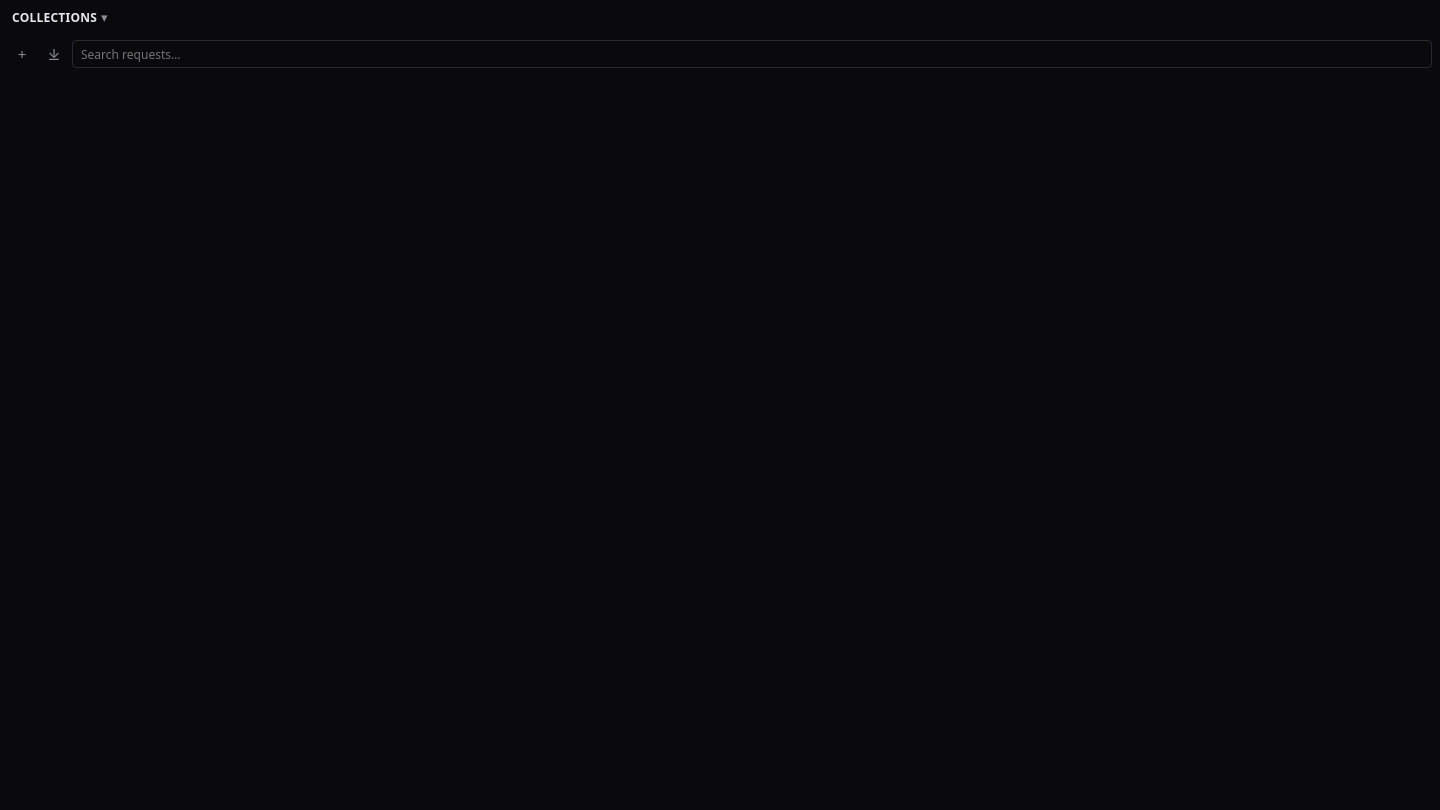
Test: HistoryView › keeps the clear dialog open and shows why clearing failed
The width and height of the screenshot is (1440, 810).
Click the button with aria-label "Sidebar view: ": {"x": 60, "y": 18} [8,4,112,32]
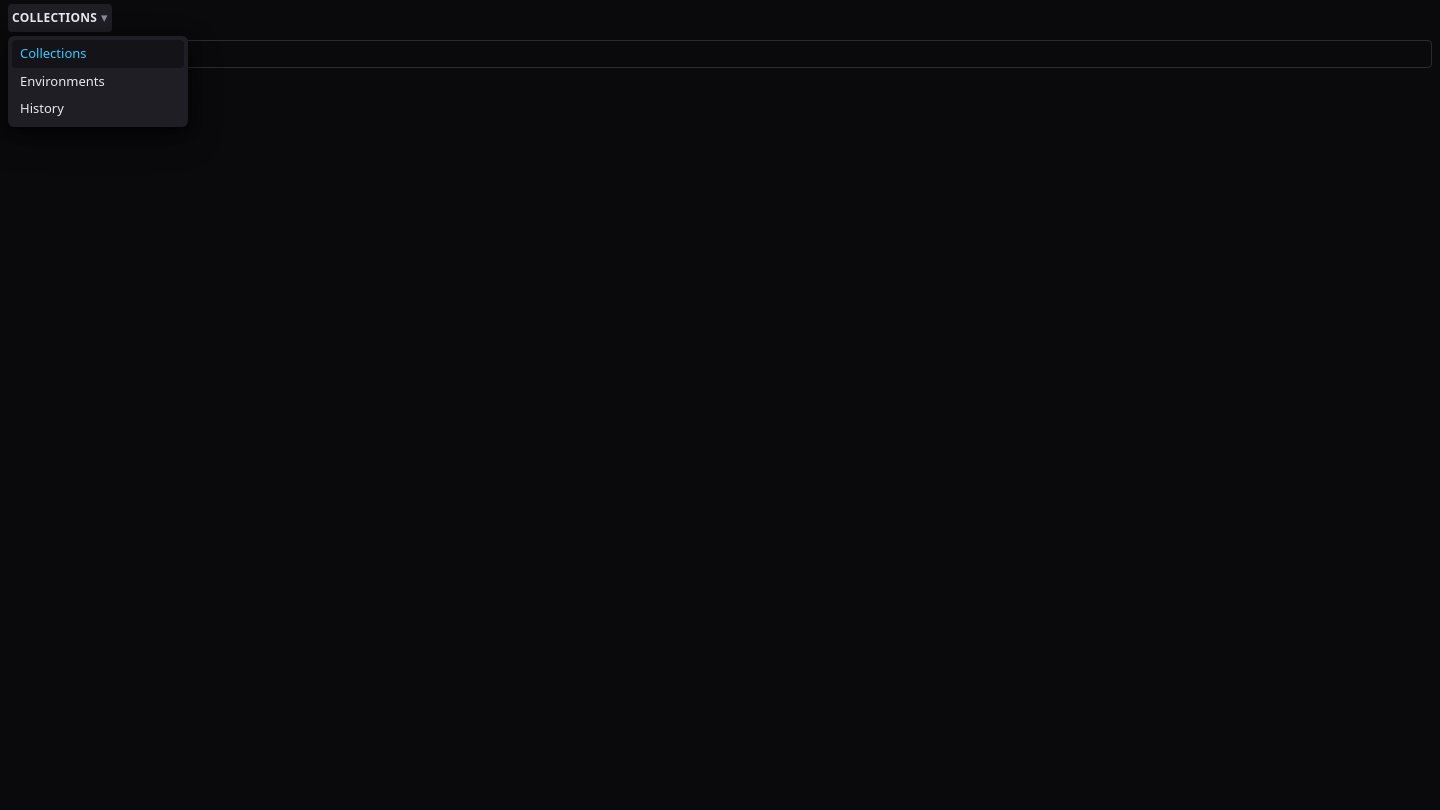
Click the menu item "History": {"x": 98, "y": 109} [12,95,184,122]
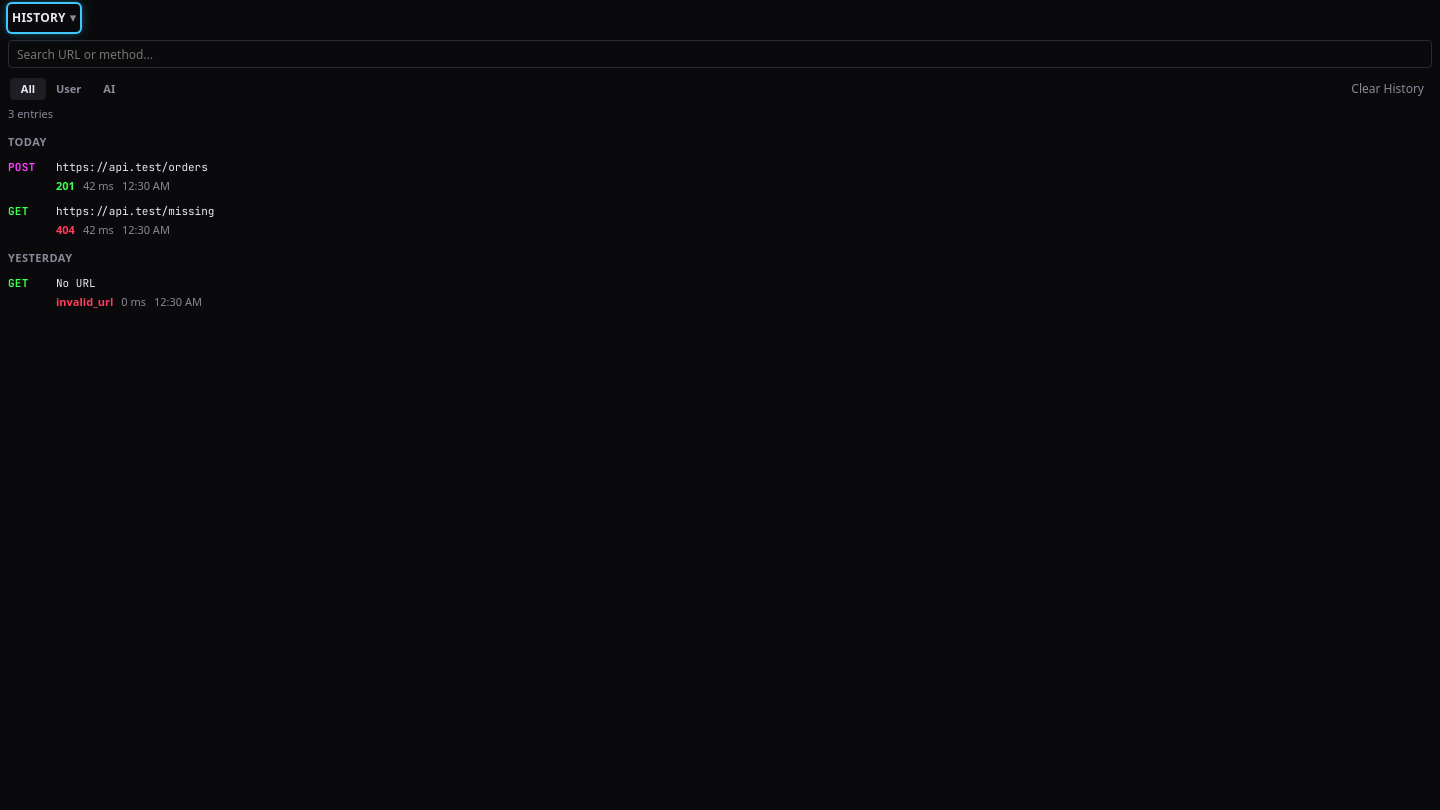
Expected: the list named "History" is shown, [0,126,1439,314]
Click the button "Clear History": {"x": 1388, "y": 89} [1343,76,1432,102]
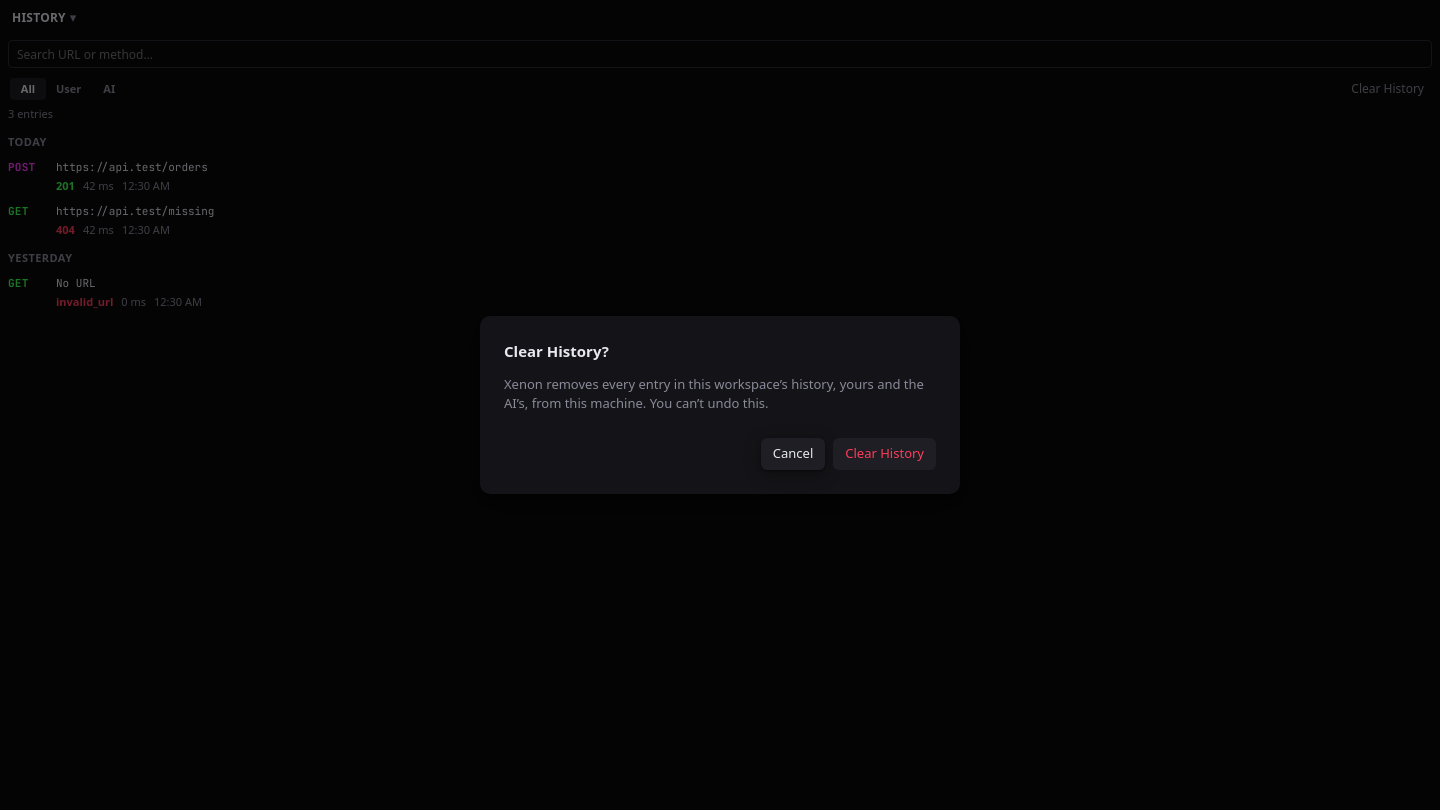
Click the button "Clear History": {"x": 885, "y": 454} [833,438,936,470]
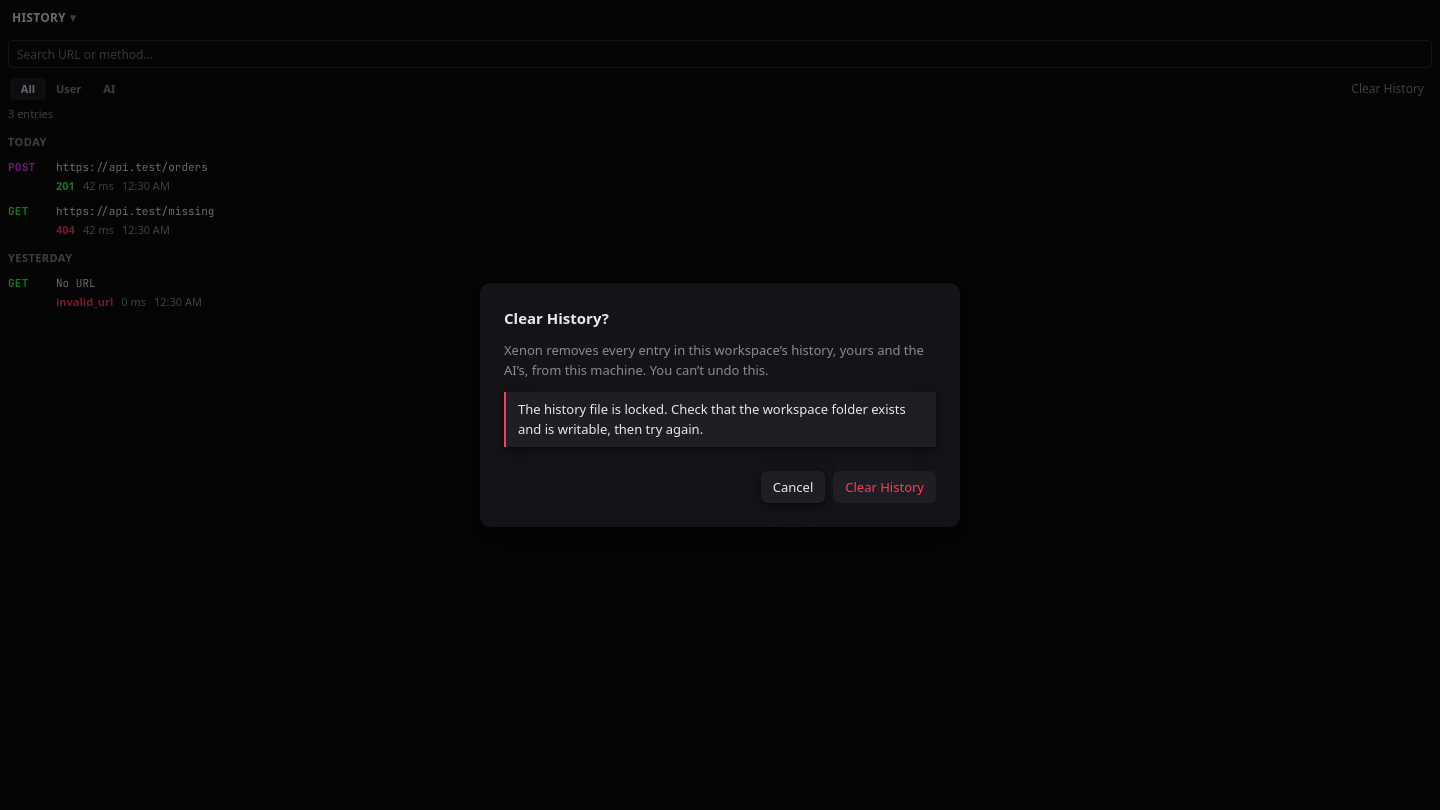
Expected: the list named "History" is shown, [0,126,1439,314]
Expected: the message shows "The history file is locked. Check that the workspace folder exists", [518,400,906,438]
